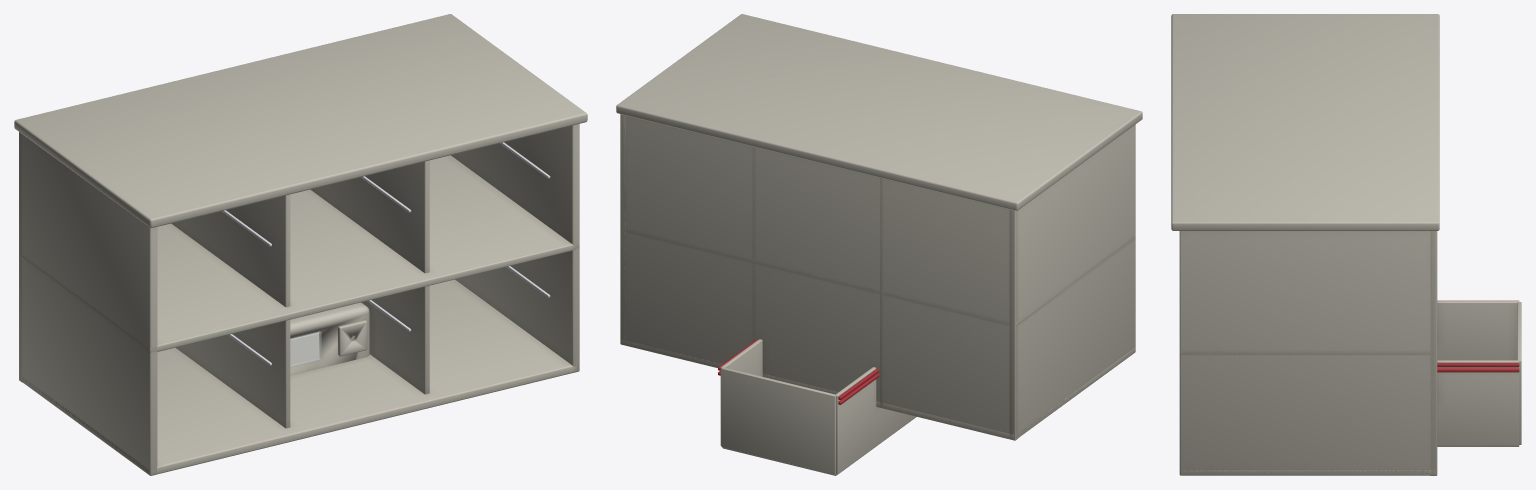
The model's file is cabinet.glb.
The picture shows the model from 3 angles, left to right: view 1: azimuth 30°, elevation 25°; view 2: azimuth 150°, elevation 25°; view 3: azimuth 270°, elevation 25°; orthographic projection. The views are drawn at different scales.
Parts seen in each view (by area): view 1: Cabinet, Drawer, Drawer_Window, Drawer_Label; view 2: Cabinet, Drawer; view 3: Cabinet, Drawer.
Part boxes in pixels (<box>): Cabinet: <box>14,14,587,475</box>; Drawer: <box>290,302,369,375</box>; Drawer_Window: <box>290,331,321,366</box>; Drawer_Label: <box>290,332,318,364</box>; Cabinet: <box>616,14,1142,440</box>; Drawer: <box>718,339,916,475</box>; Cabinet: <box>1171,14,1439,475</box>; Drawer: <box>1437,300,1521,446</box>.
Bounding box in the file's own units: 69.2 × 48 × 48.95.
9 materials, 5 textured.
